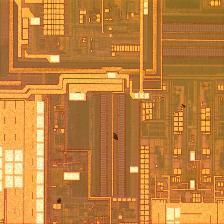PIQ PARTICLE: (53, 101, 191, 208)
